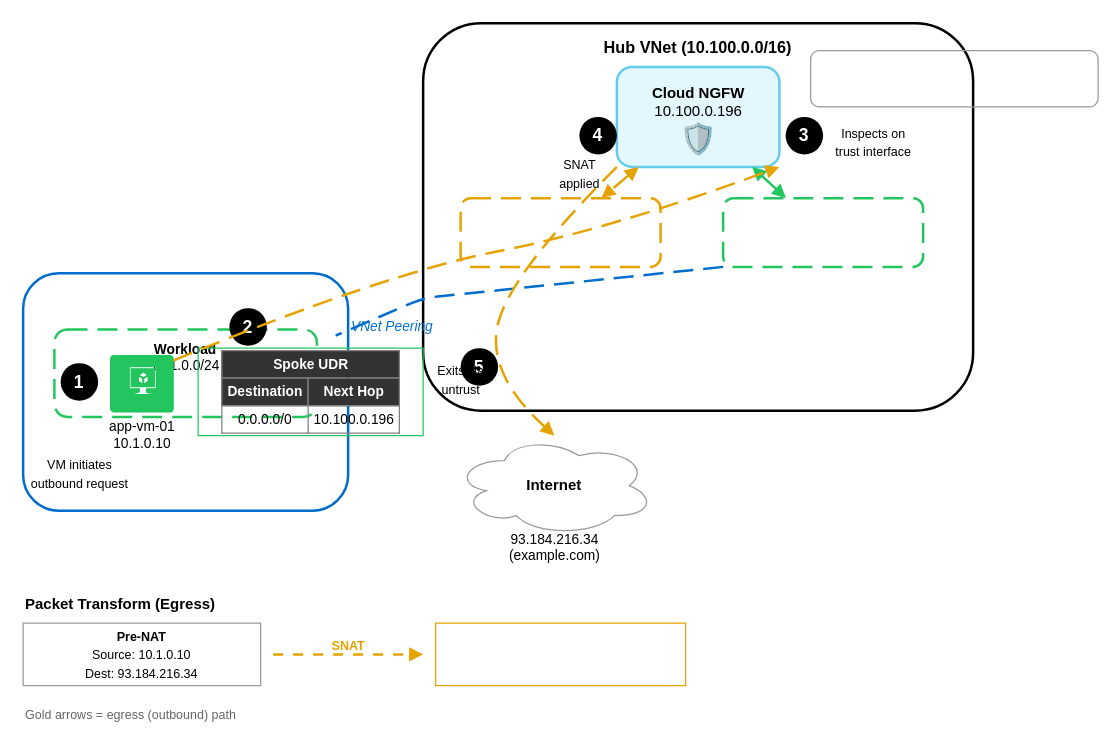
This 1120x750 diagram has some shape labels left out. The shapes that lost their labels are listed below. From the top down, each one's box as (x1, y1, x2, y2) in pixels, then its label:
(809, 49, 1098, 107): Source NAT 10.1.0.10 → 20.x.x.x (public IP)
(459, 196, 661, 268): Public (Untrust) 10.100.0.128/26
(721, 196, 924, 268): Private (Trust) 10.100.0.192/26
(21, 271, 349, 511): Spoke VNet (10.1.0.0/16)
(434, 622, 686, 686): Post-SNAT Source: 20.x.x.x Dest: 93.184.216.34
